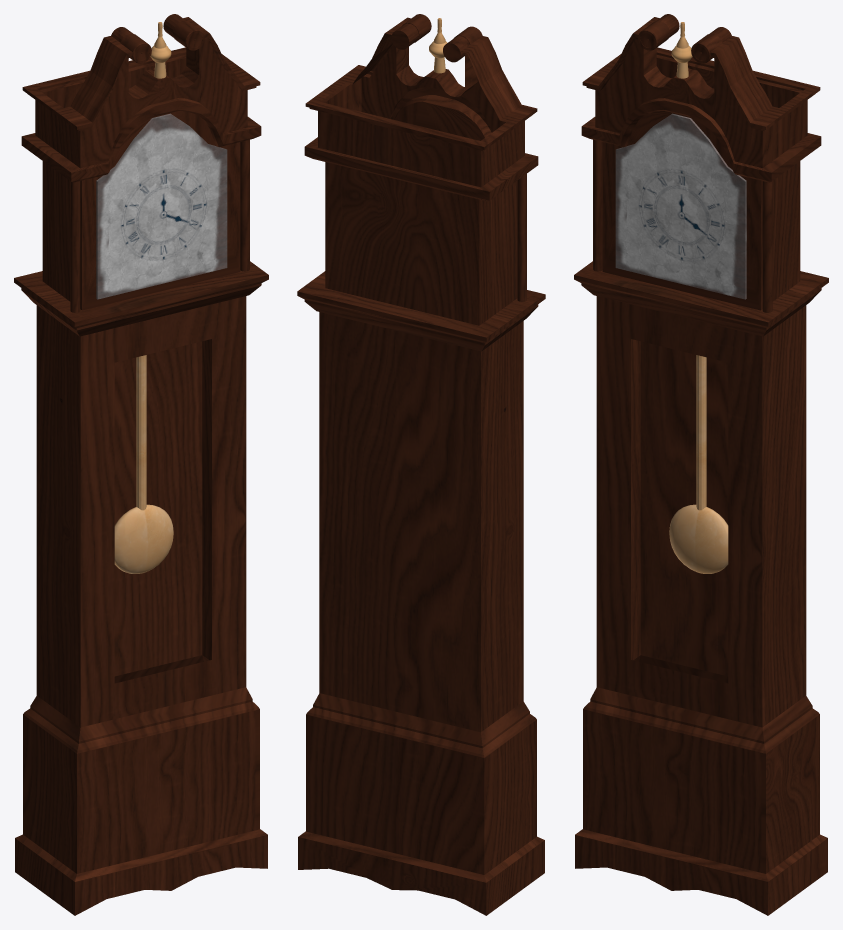
Rendered from MansionClock2.fbx.
3 views of the same model, side by side, from view 1: azimuth 30°, elevation 25°; view 2: azimuth 150°, elevation 25°; view 3: azimuth 330°, elevation 25° (orthographic). The views are drawn at different scales.
Parts seen in each view (by area): view 1: Grandfather_Clock; view 2: Grandfather_Clock; view 3: Grandfather_Clock.
Part boxes in pixels (x1,y1,x2,y2): Grandfather_Clock: (14,14,268,915); Grandfather_Clock: (297,14,545,915); Grandfather_Clock: (574,14,828,915).
Size of the model in its own units: 44.84 by 190 by 24.25.
Materials: 1 (1 with a texture image).
